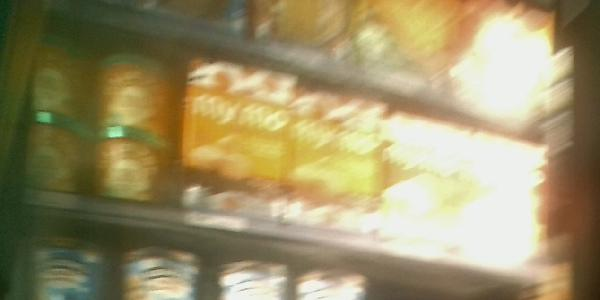icecream: (379, 90, 545, 286), (191, 59, 296, 230), (284, 88, 385, 248), (13, 125, 101, 205), (102, 47, 171, 149), (100, 118, 172, 213), (25, 52, 101, 137)
